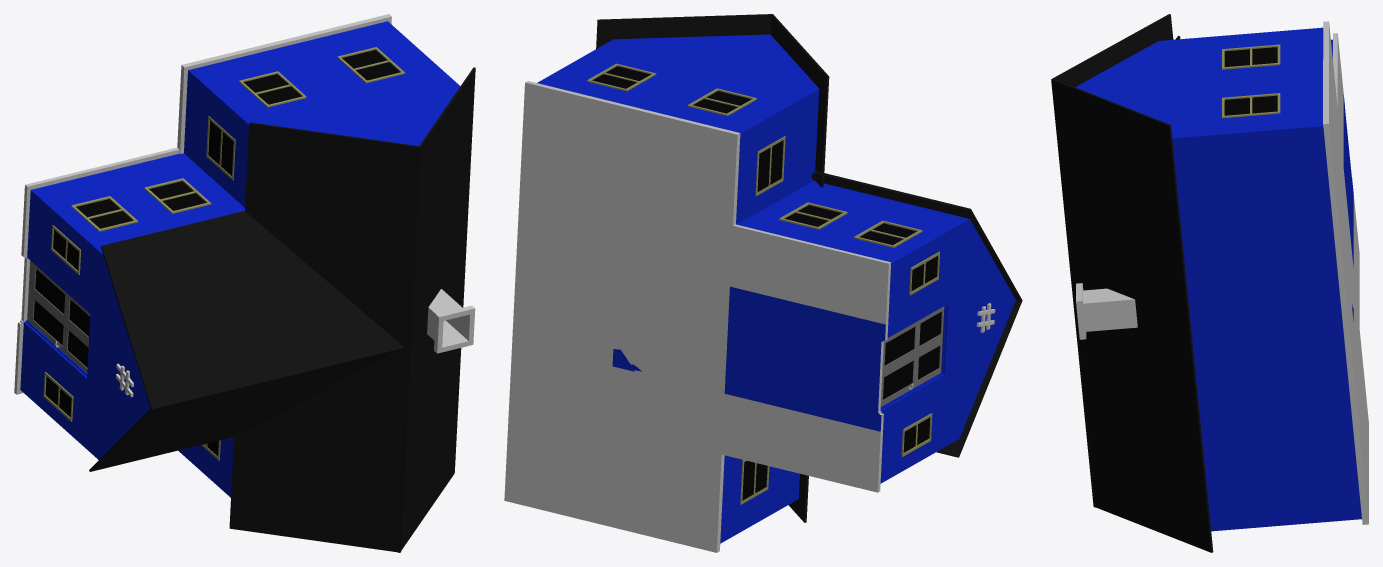
The model's file is housesobj.obj.
3 views of the same model, side by side, from view 1: azimuth 30°, elevation 25°; view 2: azimuth 150°, elevation 25°; view 3: azimuth 270°, elevation 25° (orthographic). The views are drawn at different scales.
Visible parts, largest first — view 1: Plane.010; view 2: Plane.010; view 3: Plane.010.
Part boxes in pixels (box(x1,y1,x2,y2)): Plane.010: box(14, 14, 475, 552); Plane.010: box(504, 14, 1022, 552); Plane.010: box(1051, 14, 1368, 552).
Size of the model in its own units: 0.2372 by 0.2641 by 0.1741.
